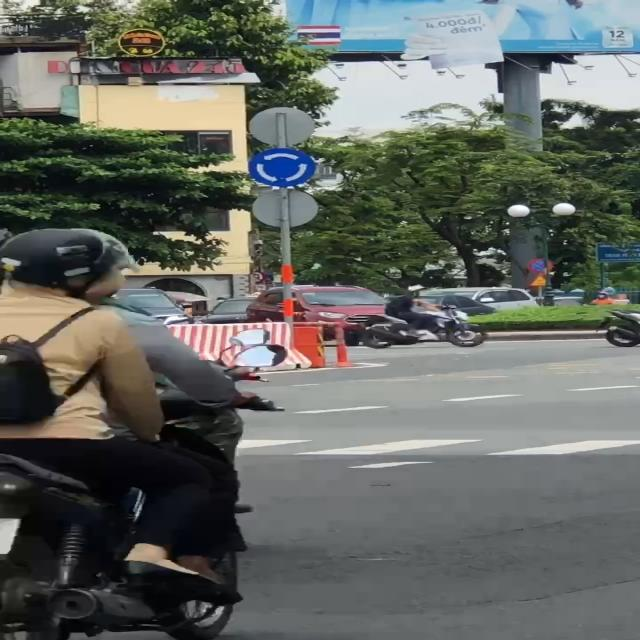Bien bao noi giao nhau chay theo vong xuyen: (246, 148, 315, 189)
